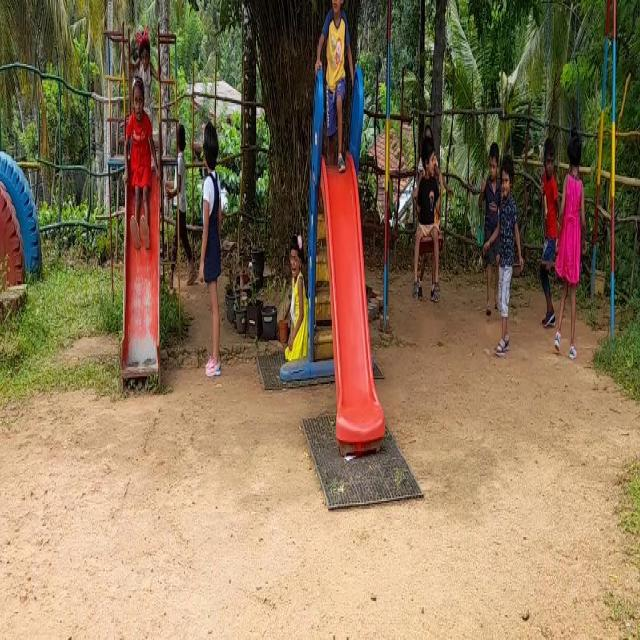child: (190, 110, 231, 393), (313, 0, 350, 167)
